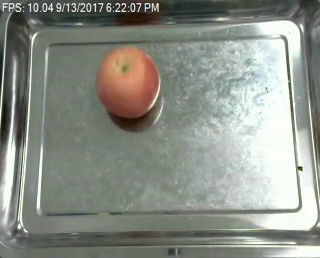Apple: (92, 43, 164, 121)
